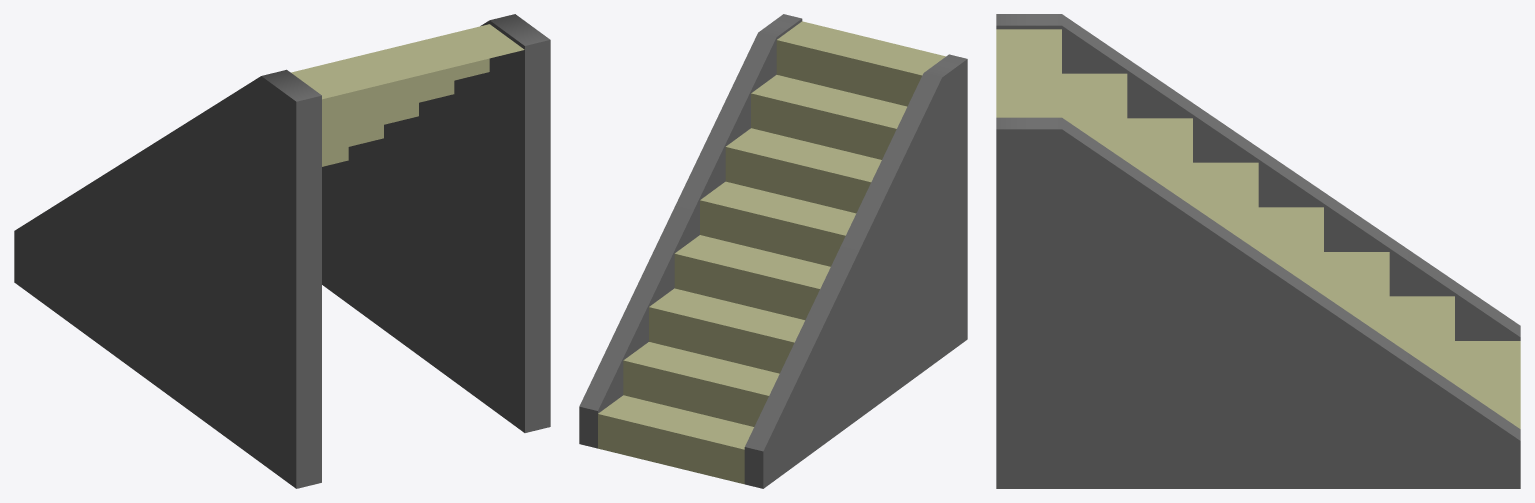
The model's file is OutdoorStairs.fbx.
The picture shows the model from 3 angles, left to right: view 1: azimuth 30°, elevation 25°; view 2: azimuth 150°, elevation 25°; view 3: azimuth 270°, elevation 25°; orthographic projection. The views are drawn at different scales.
Parts seen in each view (by area): view 1: Outdoor_Stairs; view 2: Outdoor_Stairs; view 3: Outdoor_Stairs.
Part boxes in pixels (x1=…): Outdoor_Stairs: x1=14, y1=14, x2=550, y2=488; Outdoor_Stairs: x1=579, y1=14, x2=967, y2=488; Outdoor_Stairs: x1=996, y1=14, x2=1520, y2=488.
Bounding box in the file's own units: 2.08 × 3.03 × 4.
